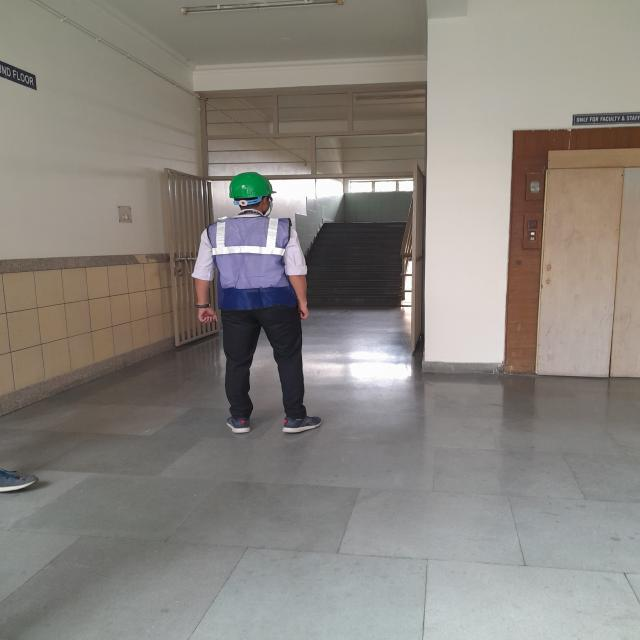safe: (195, 172, 323, 436)
